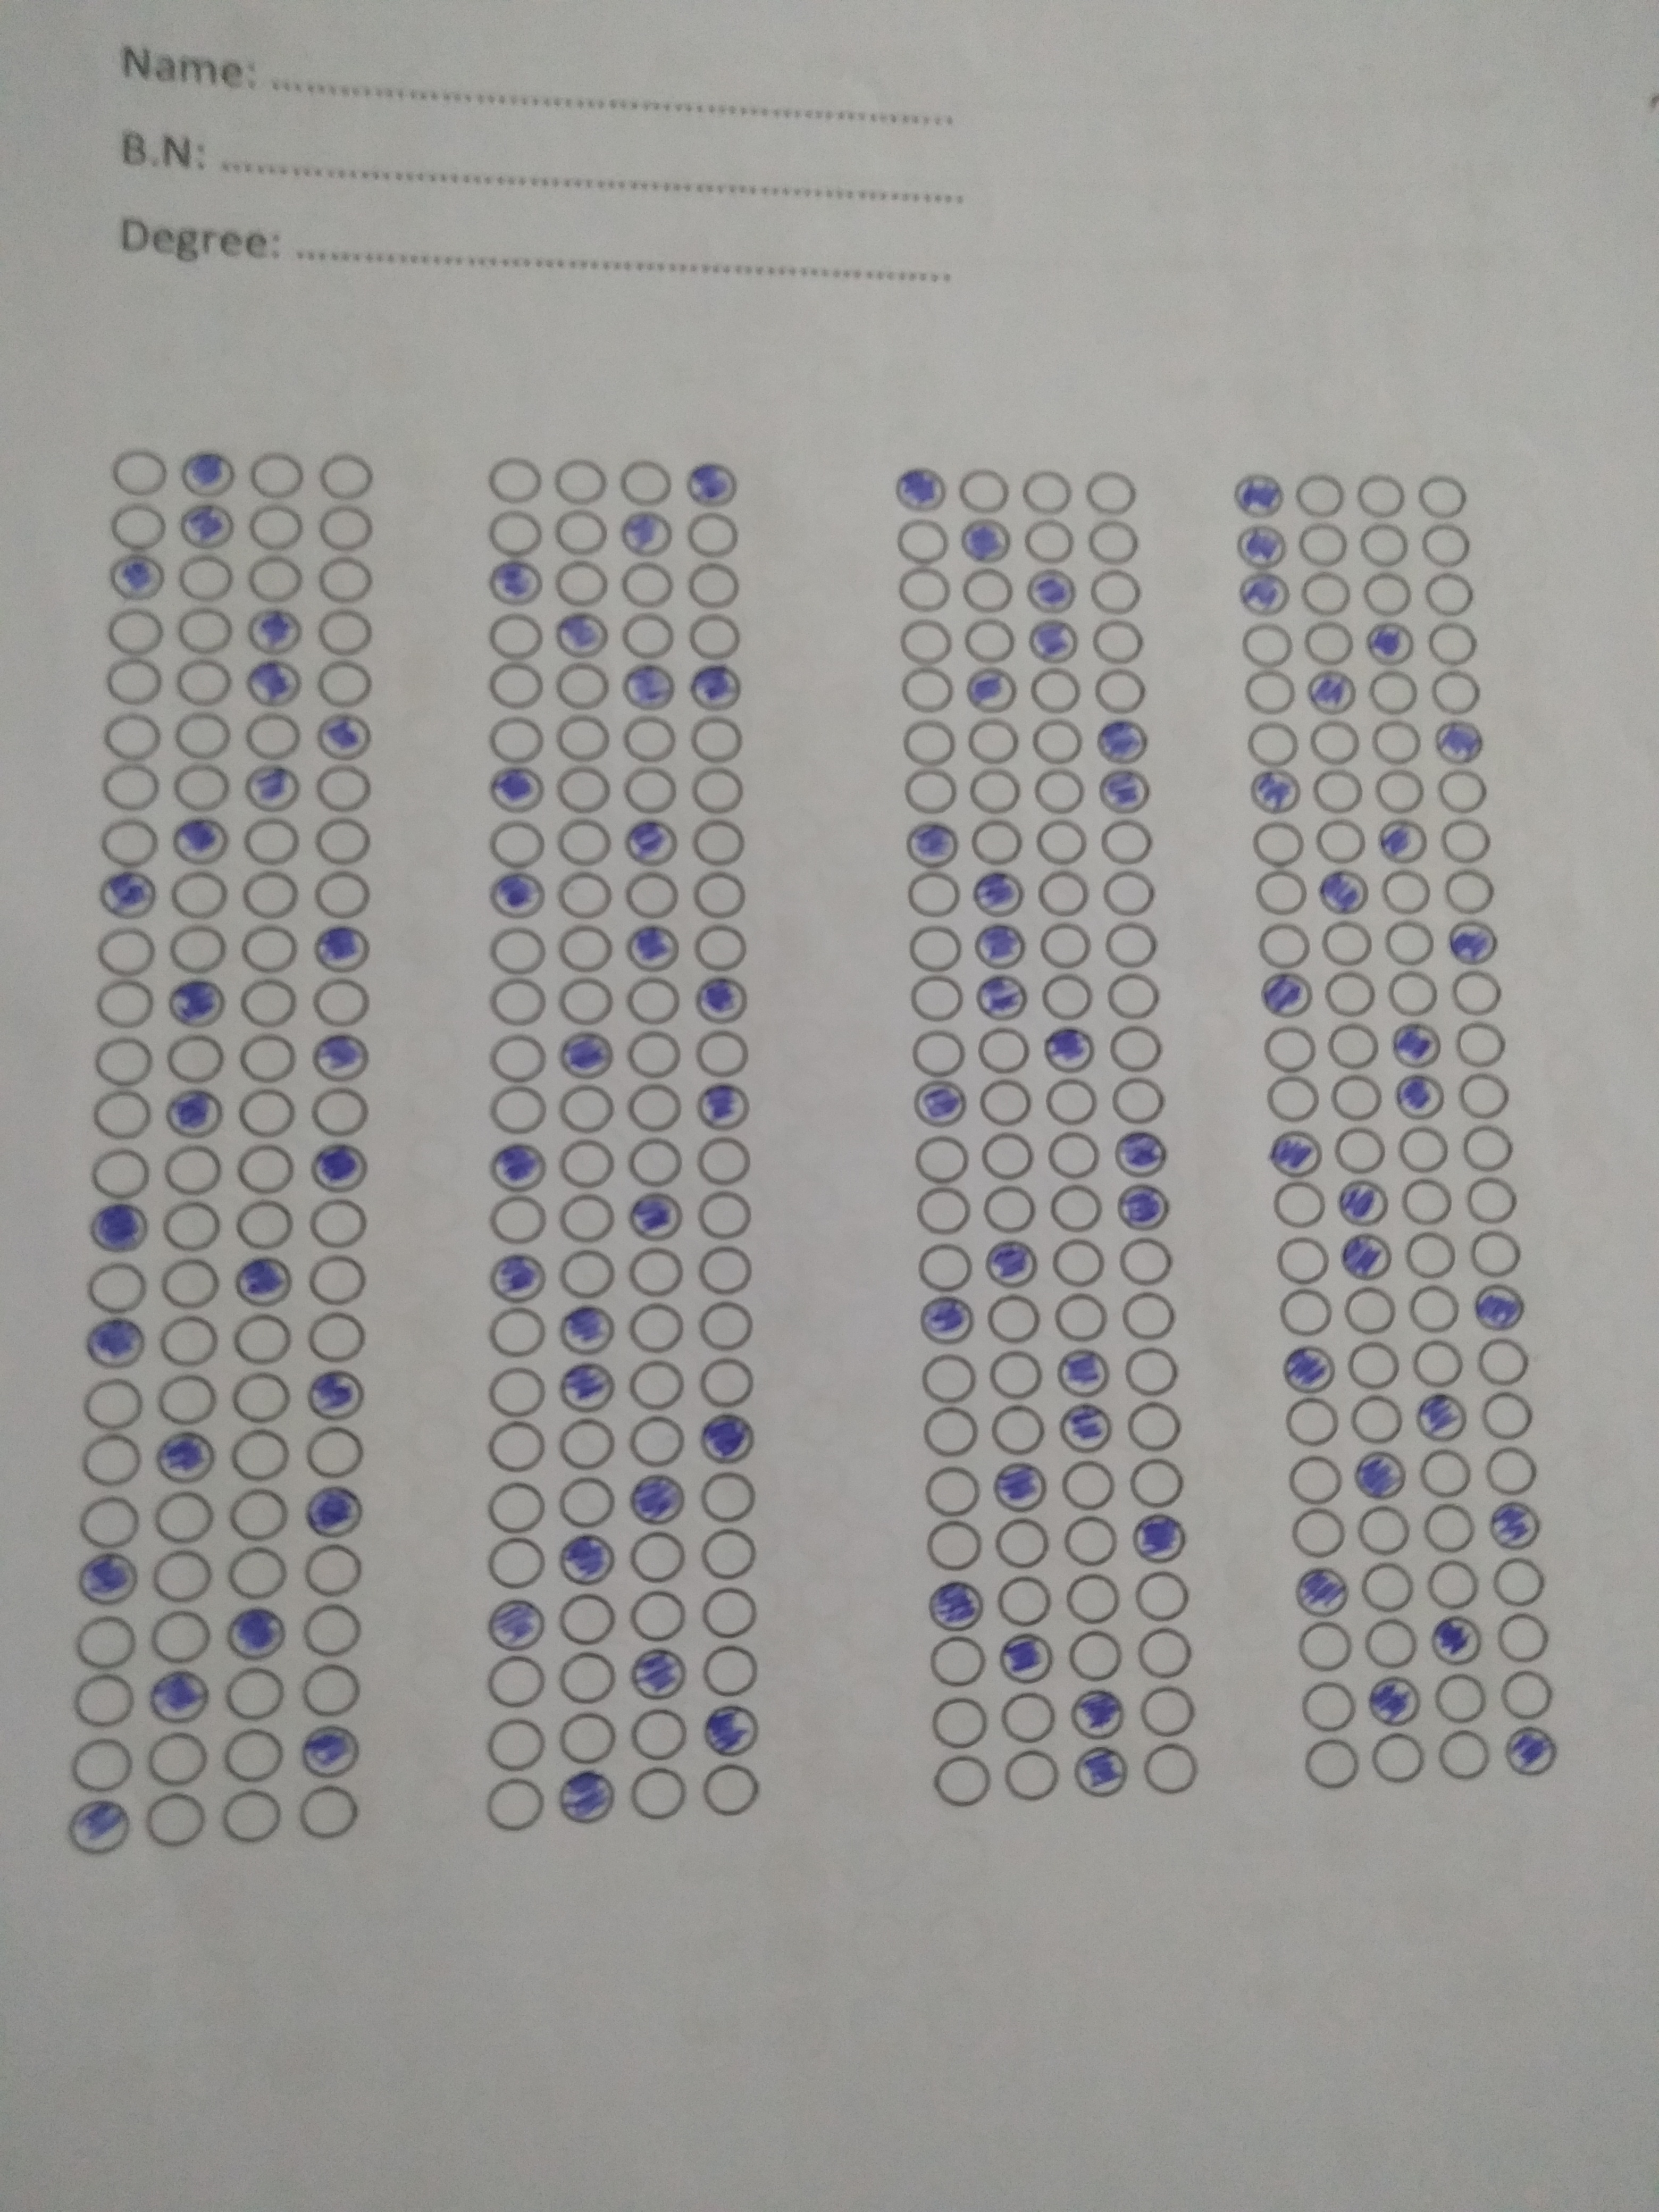not-c: (301, 1599, 364, 1656), (152, 1608, 214, 1663), (225, 1545, 289, 1599), (71, 1735, 131, 1792), (160, 1143, 223, 1197), (84, 1378, 146, 1432), (230, 1428, 293, 1482), (82, 1433, 145, 1487), (303, 1660, 361, 1717), (317, 446, 376, 502), (234, 1312, 293, 1367), (225, 1665, 284, 1721), (145, 1791, 204, 1846), (488, 1653, 547, 1709), (94, 1035, 155, 1089), (308, 1308, 369, 1362), (152, 1548, 213, 1602), (73, 1672, 134, 1726), (298, 1785, 359, 1839), (146, 1733, 207, 1787), (235, 1143, 298, 1195), (160, 1200, 223, 1252), (155, 1372, 218, 1425), (78, 1496, 141, 1548), (108, 446, 173, 496), (629, 1705, 687, 1761), (559, 1710, 617, 1766), (486, 1420, 544, 1475), (305, 1425, 364, 1479), (486, 1717, 545, 1771), (1119, 1289, 1178, 1343), (920, 1350, 979, 1404), (927, 1634, 986, 1688), (627, 1766, 687, 1820), (101, 761, 162, 813), (237, 1087, 298, 1139), (87, 1261, 148, 1313), (159, 1315, 220, 1367), (228, 1489, 289, 1541), (303, 1543, 364, 1595), (225, 1728, 286, 1780), (558, 1475, 619, 1527), (223, 1787, 279, 1843), (317, 657, 375, 711), (558, 1649, 615, 1703), (1127, 1456, 1185, 1510), (1133, 1568, 1190, 1622), (1000, 1691, 1058, 1745), (976, 1021, 1033, 1075), (1049, 1179, 1107, 1233), (167, 1031, 227, 1083), (160, 1258, 220, 1310), (232, 1371, 291, 1423), (77, 1615, 136, 1667), (484, 453, 544, 505), (702, 1763, 762, 1815), (559, 1592, 619, 1644), (629, 1588, 688, 1641), (1049, 1235, 1108, 1287), (917, 1240, 976, 1292), (1051, 1289, 1110, 1341), (983, 1292, 1042, 1345), (1124, 1400, 1183, 1453), (1122, 1343, 1182, 1395), (922, 1404, 981, 1456), (1063, 1514, 1122, 1566), (993, 1515, 1053, 1568), (924, 1517, 983, 1569), (1065, 1571, 1124, 1623), (1002, 1749, 1061, 1801), (1103, 970, 1162, 1022), (1039, 970, 1098, 1022), (1107, 1022, 1166, 1075), (1042, 1075, 1101, 1127), (978, 1075, 1037, 1127), (978, 1129, 1037, 1181), (315, 554, 376, 604), (240, 869, 301, 920), (249, 448, 305, 502), (488, 1534, 544, 1588), (178, 550, 235, 603), (98, 979, 155, 1031), (155, 1491, 213, 1543), (988, 1348, 1046, 1400), (990, 1404, 1047, 1456), (1060, 1460, 1117, 1512), (924, 1463, 981, 1515), (995, 1573, 1053, 1625), (934, 1754, 992, 1806), (1134, 1627, 1192, 1679), (1066, 1630, 1124, 1683), (1140, 1686, 1197, 1738), (932, 1695, 990, 1747), (1141, 1743, 1199, 1796), (486, 1778, 544, 1831), (1108, 1075, 1166, 1127), (1117, 1235, 1175, 1287), (917, 1130, 974, 1183), (1046, 1127, 1103, 1179), (983, 1183, 1040, 1235), (917, 1184, 974, 1237), (899, 664, 957, 716), (1091, 664, 1148, 716), (247, 502, 307, 552), (174, 709, 234, 759), (169, 869, 228, 920), (96, 927, 155, 977), (239, 977, 298, 1028), (239, 1033, 298, 1083), (91, 1148, 150, 1198), (308, 1198, 368, 1249), (99, 819, 160, 867), (617, 453, 673, 505), (631, 1533, 687, 1585), (1021, 465, 1077, 517), (108, 606, 166, 657), (173, 761, 230, 812), (315, 763, 373, 813), (94, 1090, 152, 1141), (308, 1254, 366, 1305), (488, 977, 545, 1028), (488, 1367, 545, 1418), (906, 923, 964, 974), (901, 716, 958, 766), (244, 711, 303, 759), (103, 712, 162, 761), (242, 817, 301, 866), (240, 923, 300, 972), (235, 1200, 295, 1249), (627, 1247, 687, 1296), (702, 1588, 756, 1641), (701, 1527, 755, 1580), (701, 1472, 755, 1524), (559, 1418, 613, 1470), (629, 1416, 683, 1468), (312, 1087, 368, 1137), (490, 714, 545, 765), (558, 869, 613, 920), (697, 1244, 753, 1294), (488, 1482, 544, 1533), (962, 613, 1018, 664), (1091, 568, 1147, 618), (110, 503, 167, 552), (315, 817, 373, 866), (169, 923, 227, 972), (687, 613, 744, 662), (910, 974, 967, 1022), (488, 1195, 545, 1244), (488, 1306, 545, 1355), (490, 1085, 547, 1134), (314, 871, 373, 918), (312, 979, 371, 1026), (904, 871, 964, 918), (957, 463, 1009, 516), (1434, 1672, 1486, 1724), (622, 712, 676, 763), (490, 819, 544, 869), (491, 1033, 545, 1083), (702, 1646, 756, 1696), (903, 766, 957, 817), (1030, 714, 1084, 765), (1086, 516, 1140, 566), (1023, 516, 1077, 566), (1272, 1179, 1326, 1230), (1358, 1505, 1412, 1555), (1298, 1622, 1352, 1672), (1305, 1738, 1359, 1789), (1371, 1731, 1425, 1782), (247, 554, 303, 603), (490, 611, 545, 660), (556, 712, 612, 761), (911, 1028, 967, 1076), (626, 1083, 681, 1132), (490, 927, 545, 975), (699, 1357, 755, 1406), (559, 1249, 615, 1298), (559, 1193, 615, 1242), (559, 1139, 615, 1188), (315, 610, 373, 657), (627, 1305, 685, 1352), (695, 1137, 753, 1184), (554, 455, 606, 505), (967, 716, 1019, 766), (1351, 1393, 1403, 1444), (1420, 1447, 1473, 1498), (1293, 1507, 1345, 1557), (1361, 1562, 1413, 1613), (1500, 1670, 1553, 1721), (178, 657, 232, 705), (488, 662, 542, 711), (695, 1028, 749, 1076), (694, 869, 748, 918), (1037, 869, 1091, 918), (1105, 921, 1159, 970), (1103, 869, 1157, 918), (969, 817, 1023, 866), (969, 768, 1023, 817), (897, 615, 951, 664), (897, 566, 951, 615), (1344, 1285, 1398, 1334), (1284, 1397, 1338, 1446), (1424, 1503, 1478, 1552), (1302, 1683, 1356, 1731), (106, 658, 162, 705), (556, 766, 612, 813), (624, 768, 680, 815), (629, 1362, 685, 1409), (699, 1301, 755, 1348), (697, 1191, 753, 1238), (629, 1139, 685, 1186), (176, 608, 234, 653), (486, 510, 544, 556), (1100, 819, 1157, 864), (1478, 1336, 1528, 1386), (1427, 1561, 1478, 1611), (1499, 1613, 1549, 1663), (1366, 1616, 1417, 1667), (556, 662, 608, 711), (690, 714, 742, 763), (627, 1029, 680, 1078), (626, 869, 678, 918), (694, 817, 746, 866), (1030, 667, 1082, 716), (1279, 1289, 1331, 1338), (1290, 1456, 1342, 1505), (1493, 1557, 1546, 1606), (1438, 1730, 1490, 1778), (622, 611, 676, 658), (692, 766, 746, 813), (561, 1085, 615, 1132), (627, 977, 681, 1024), (1039, 921, 1093, 968), (960, 566, 1014, 613), (319, 505, 375, 550), (1037, 815, 1087, 864), (897, 516, 948, 564), (1253, 819, 1303, 867), (1481, 1392, 1532, 1440), (1486, 1446, 1537, 1494), (687, 563, 739, 610), (559, 923, 612, 970), (559, 977, 612, 1024), (695, 923, 748, 970), (559, 819, 612, 866), (1093, 618, 1145, 665), (1263, 1026, 1316, 1073), (1326, 1022, 1378, 1069), (1331, 1073, 1384, 1120), (1267, 1076, 1319, 1123), (1335, 1127, 1387, 1174), (1408, 1285, 1460, 1332), (687, 512, 741, 557), (554, 561, 608, 606), (1084, 470, 1138, 516), (1277, 1237, 1331, 1282), (1417, 472, 1467, 519), (1398, 1125, 1448, 1172), (1347, 1341, 1398, 1388), (1413, 1339, 1464, 1386), (556, 509, 608, 554), (622, 563, 674, 608), (1427, 622, 1480, 667), (1439, 819, 1492, 864), (1380, 869, 1432, 914), (1258, 923, 1310, 968), (1462, 1125, 1514, 1170), (1467, 1177, 1520, 1223), (1401, 1179, 1453, 1224), (1302, 570, 1351, 617), (1406, 1231, 1455, 1278), (1295, 472, 1345, 517), (1303, 620, 1354, 665), (1243, 622, 1293, 667), (1310, 719, 1361, 765), (1438, 768, 1488, 813), (1385, 920, 1436, 965), (1324, 970, 1375, 1015), (1455, 1022, 1506, 1068), (1246, 723, 1298, 766), (1450, 970, 1502, 1014), (1358, 474, 1406, 519), (1363, 571, 1412, 617), (1375, 768, 1424, 813), (1323, 920, 1371, 965), (1389, 970, 1438, 1015), (1459, 1073, 1507, 1118), (1471, 1231, 1520, 1277), (1033, 768, 1084, 812), (1420, 524, 1471, 568), (1424, 573, 1474, 617), (1244, 669, 1295, 712), (1312, 768, 1363, 812), (1316, 819, 1366, 862), (1373, 719, 1420, 765), (1361, 524, 1410, 568), (1298, 523, 1347, 566), (1368, 671, 1417, 714), (1445, 869, 1493, 913), (1432, 671, 1480, 714), (1256, 871, 1305, 913)
taken-c: (556, 1529, 619, 1588), (66, 1799, 131, 1857), (300, 1723, 362, 1780), (75, 1552, 139, 1608), (148, 1669, 209, 1726), (227, 1606, 288, 1663), (234, 1254, 295, 1310), (701, 1702, 762, 1757), (162, 1087, 227, 1139), (303, 1484, 362, 1540), (558, 1768, 617, 1824), (624, 921, 685, 975), (488, 1599, 549, 1653), (96, 869, 159, 921), (308, 1031, 371, 1083), (157, 1432, 216, 1486), (87, 1315, 146, 1369), (626, 1190, 685, 1244), (697, 1413, 756, 1467), (925, 1578, 985, 1632), (308, 1141, 369, 1193), (1291, 1566, 1352, 1618), (629, 1474, 687, 1527), (992, 1460, 1049, 1514), (307, 1369, 366, 1421), (89, 1202, 148, 1254), (490, 1141, 549, 1193), (627, 1648, 687, 1700), (1073, 1745, 1129, 1799), (920, 1292, 976, 1346), (1502, 1723, 1558, 1777), (1269, 1127, 1324, 1181), (558, 1028, 615, 1080), (558, 1360, 615, 1413), (488, 869, 547, 920), (242, 763, 303, 812), (167, 979, 228, 1028), (486, 766, 547, 815), (695, 1082, 751, 1134), (559, 1303, 615, 1355), (1070, 1689, 1126, 1742), (1413, 1392, 1469, 1444), (1281, 1343, 1337, 1395), (694, 977, 751, 1028), (622, 819, 680, 869), (488, 1252, 545, 1303), (983, 1238, 1040, 1289), (911, 1078, 969, 1129), (108, 554, 167, 603), (315, 712, 375, 761), (244, 660, 305, 707), (999, 1634, 1053, 1686), (1060, 1402, 1114, 1454), (1056, 1348, 1110, 1400), (1431, 1613, 1483, 1667), (1488, 1500, 1542, 1552), (1354, 1449, 1408, 1501), (314, 925, 369, 975), (488, 557, 544, 608), (958, 516, 1014, 566), (904, 819, 960, 869), (1335, 1179, 1391, 1230), (1115, 1183, 1171, 1233), (1114, 1129, 1169, 1179), (1258, 970, 1314, 1021), (971, 921, 1026, 972), (171, 817, 228, 866), (965, 665, 1019, 716), (1133, 1514, 1187, 1564), (1366, 1676, 1420, 1726), (181, 449, 237, 498), (247, 608, 303, 657), (619, 509, 674, 557), (554, 610, 610, 658), (622, 664, 678, 712), (1340, 1231, 1396, 1280), (1445, 920, 1500, 968), (178, 502, 235, 549), (685, 460, 739, 509), (688, 664, 742, 712), (894, 467, 948, 516), (1042, 1026, 1096, 1075), (974, 974, 1028, 1022), (1098, 768, 1152, 817), (1096, 718, 1150, 766), (1025, 566, 1079, 615), (971, 871, 1026, 918), (1471, 1284, 1527, 1331), (1236, 571, 1291, 618), (1394, 1073, 1446, 1122), (1305, 667, 1358, 716), (1373, 819, 1427, 866), (1248, 768, 1302, 815), (1363, 620, 1417, 667), (1028, 618, 1079, 667), (1317, 869, 1370, 916), (1234, 523, 1286, 570), (1230, 474, 1284, 519), (1391, 1022, 1441, 1069), (1434, 719, 1485, 765)
